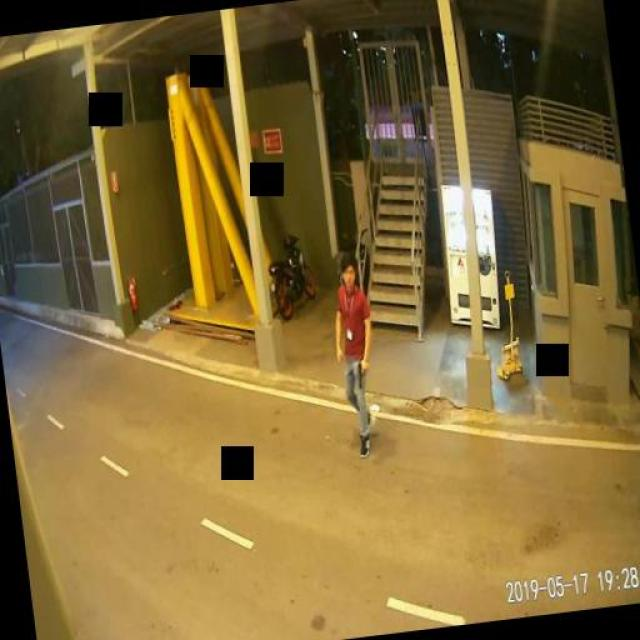gun: (353, 358, 368, 388)
